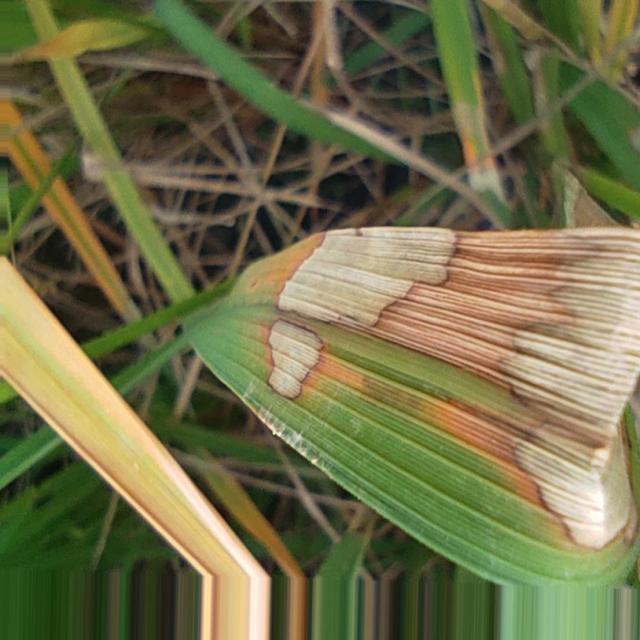Leaf_Blast: (0, 258, 269, 638)
Rice False Smut: (496, 228, 640, 547), (279, 228, 455, 326), (269, 320, 322, 397)
